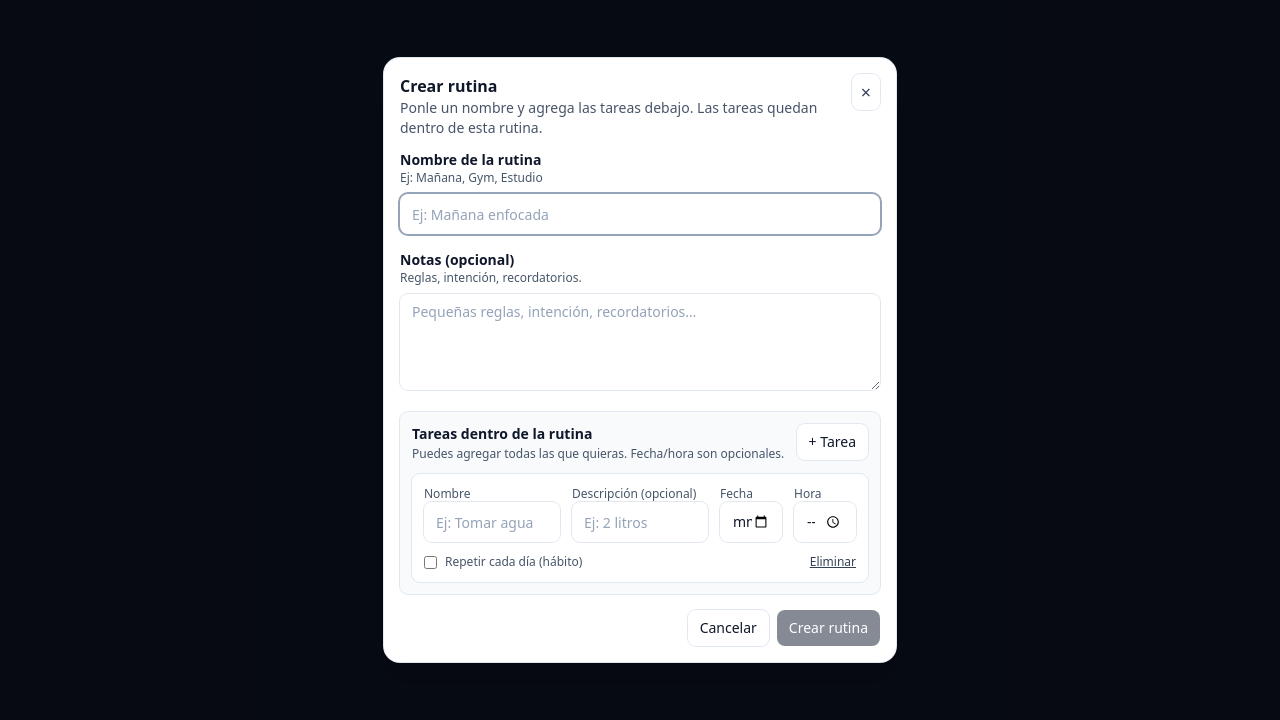
RoutineWizardModal › shows generic error message when create fails with non-Error value
Type "Mi rutina" into the field with placeholder "Ej: Mañana enfocada" at (640, 214), box top-left (400, 194), bottom-right (880, 234)
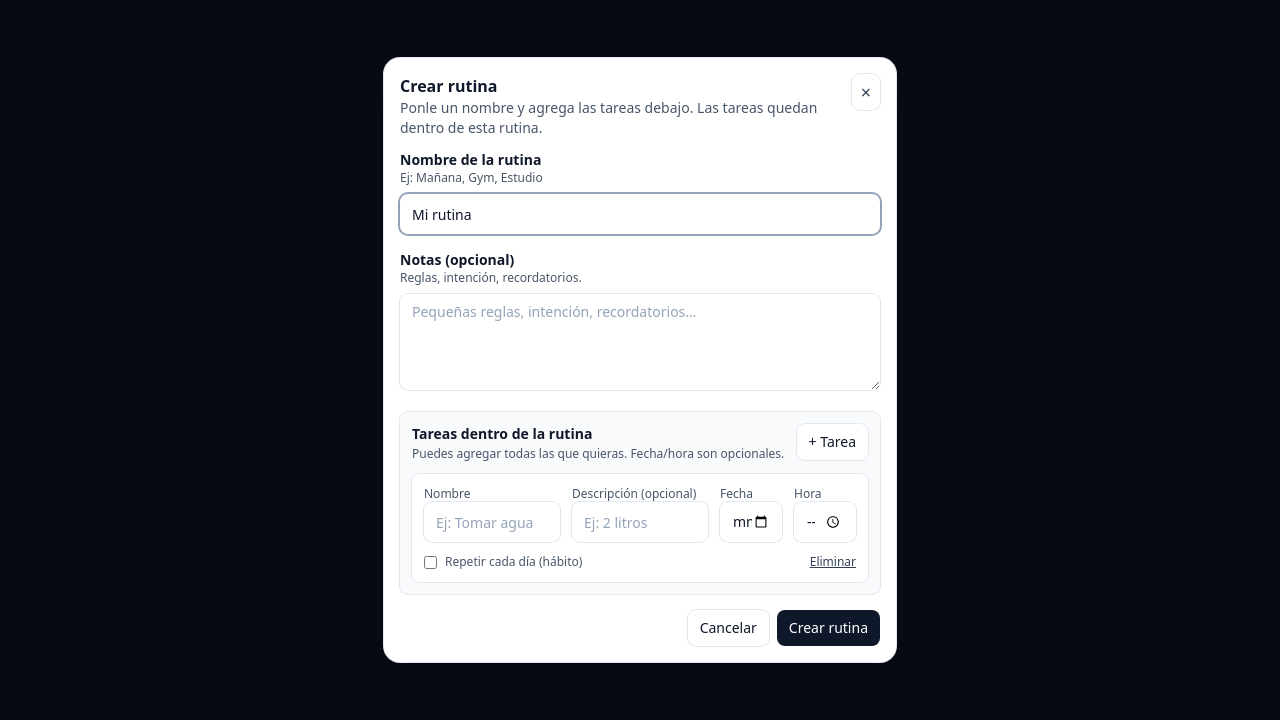
Click the button "Crear rutina" at (828, 628), box top-left (777, 610), bottom-right (880, 646)
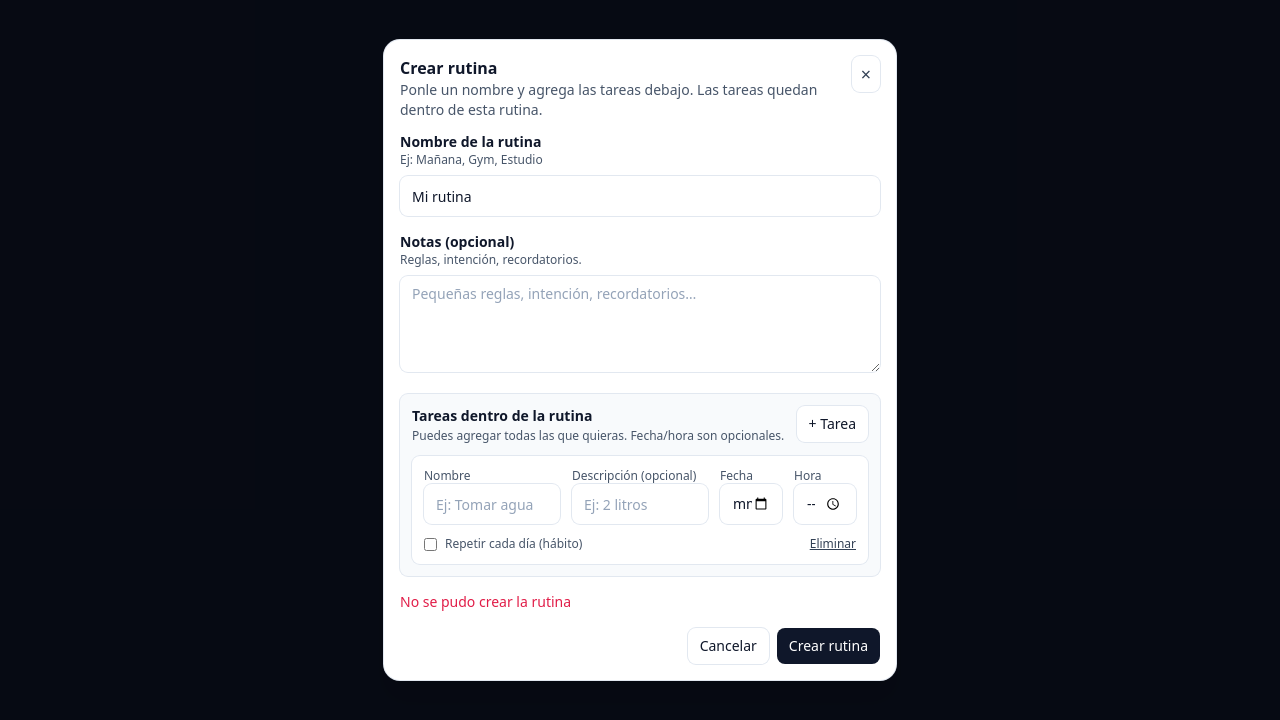
Expected: the text "No se pudo crear la rutina" is shown, top-left (400, 592), bottom-right (571, 611)
